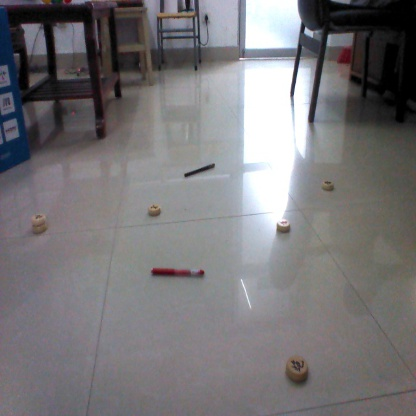chess: (282, 351, 311, 382), (30, 212, 49, 234), (145, 201, 166, 218), (275, 217, 294, 233), (318, 179, 337, 193)
pen: (148, 267, 205, 281), (181, 160, 218, 180)
